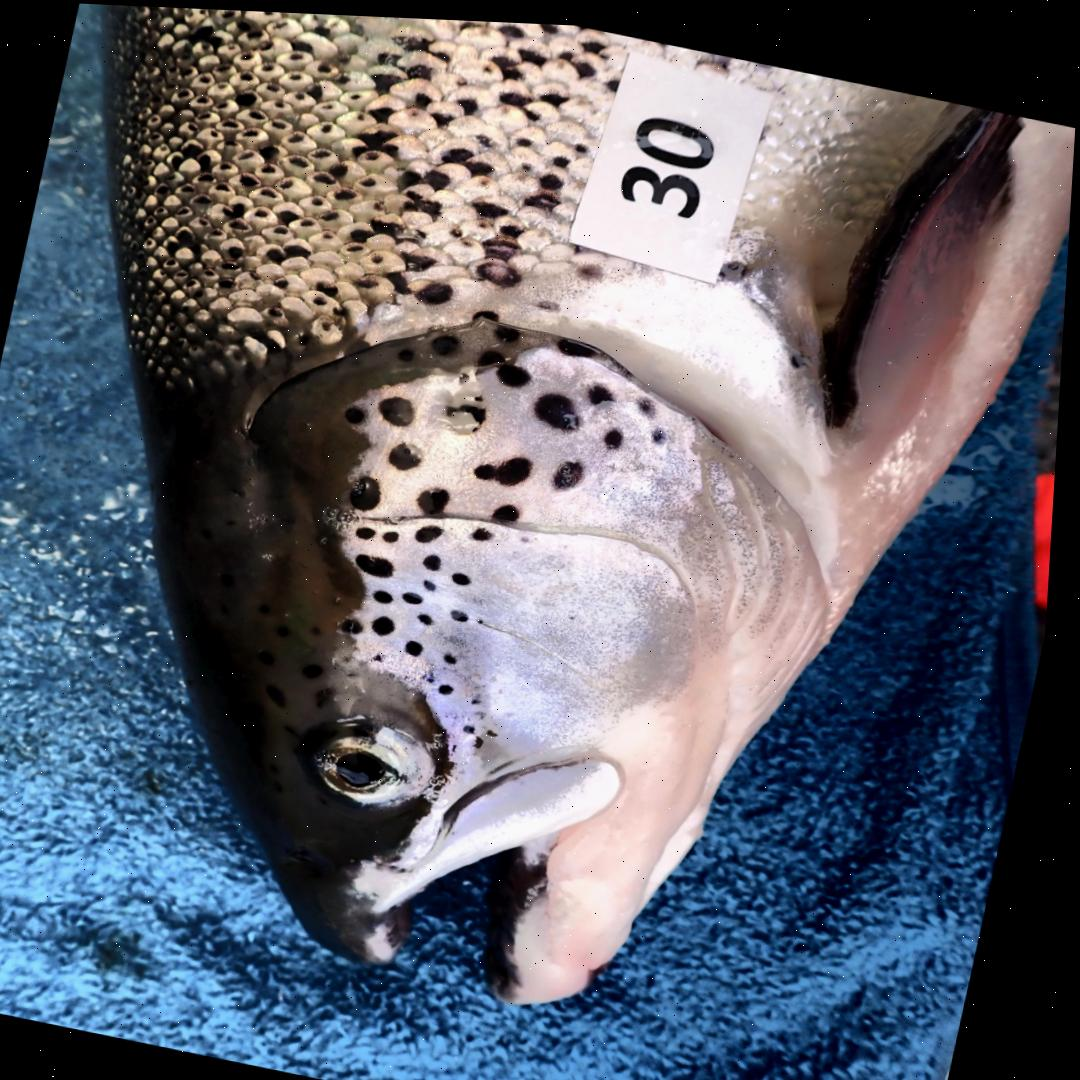spot: (436, 362, 491, 430), (537, 386, 583, 424), (479, 450, 537, 480), (355, 471, 387, 506), (383, 392, 420, 422), (393, 438, 427, 465), (361, 550, 401, 572), (500, 357, 535, 382), (423, 482, 455, 509), (558, 454, 587, 483), (561, 332, 600, 350), (435, 329, 462, 350), (591, 377, 617, 398), (422, 519, 450, 538), (497, 498, 525, 516), (481, 343, 510, 360), (608, 421, 629, 442), (379, 610, 401, 630), (349, 401, 370, 420), (498, 320, 522, 336), (478, 520, 500, 536), (347, 614, 370, 629), (429, 548, 447, 566), (413, 635, 431, 652), (380, 585, 400, 599), (429, 664, 446, 680), (458, 566, 478, 579), (409, 586, 429, 599), (456, 604, 476, 617), (643, 393, 659, 409), (363, 521, 381, 535), (656, 421, 671, 437), (402, 344, 417, 357), (389, 526, 405, 538), (450, 647, 465, 659), (446, 678, 462, 689), (430, 574, 444, 586), (471, 717, 486, 728), (426, 608, 440, 619), (480, 731, 492, 742), (379, 649, 392, 658), (495, 724, 506, 730), (480, 692, 489, 698), (484, 614, 491, 619)
